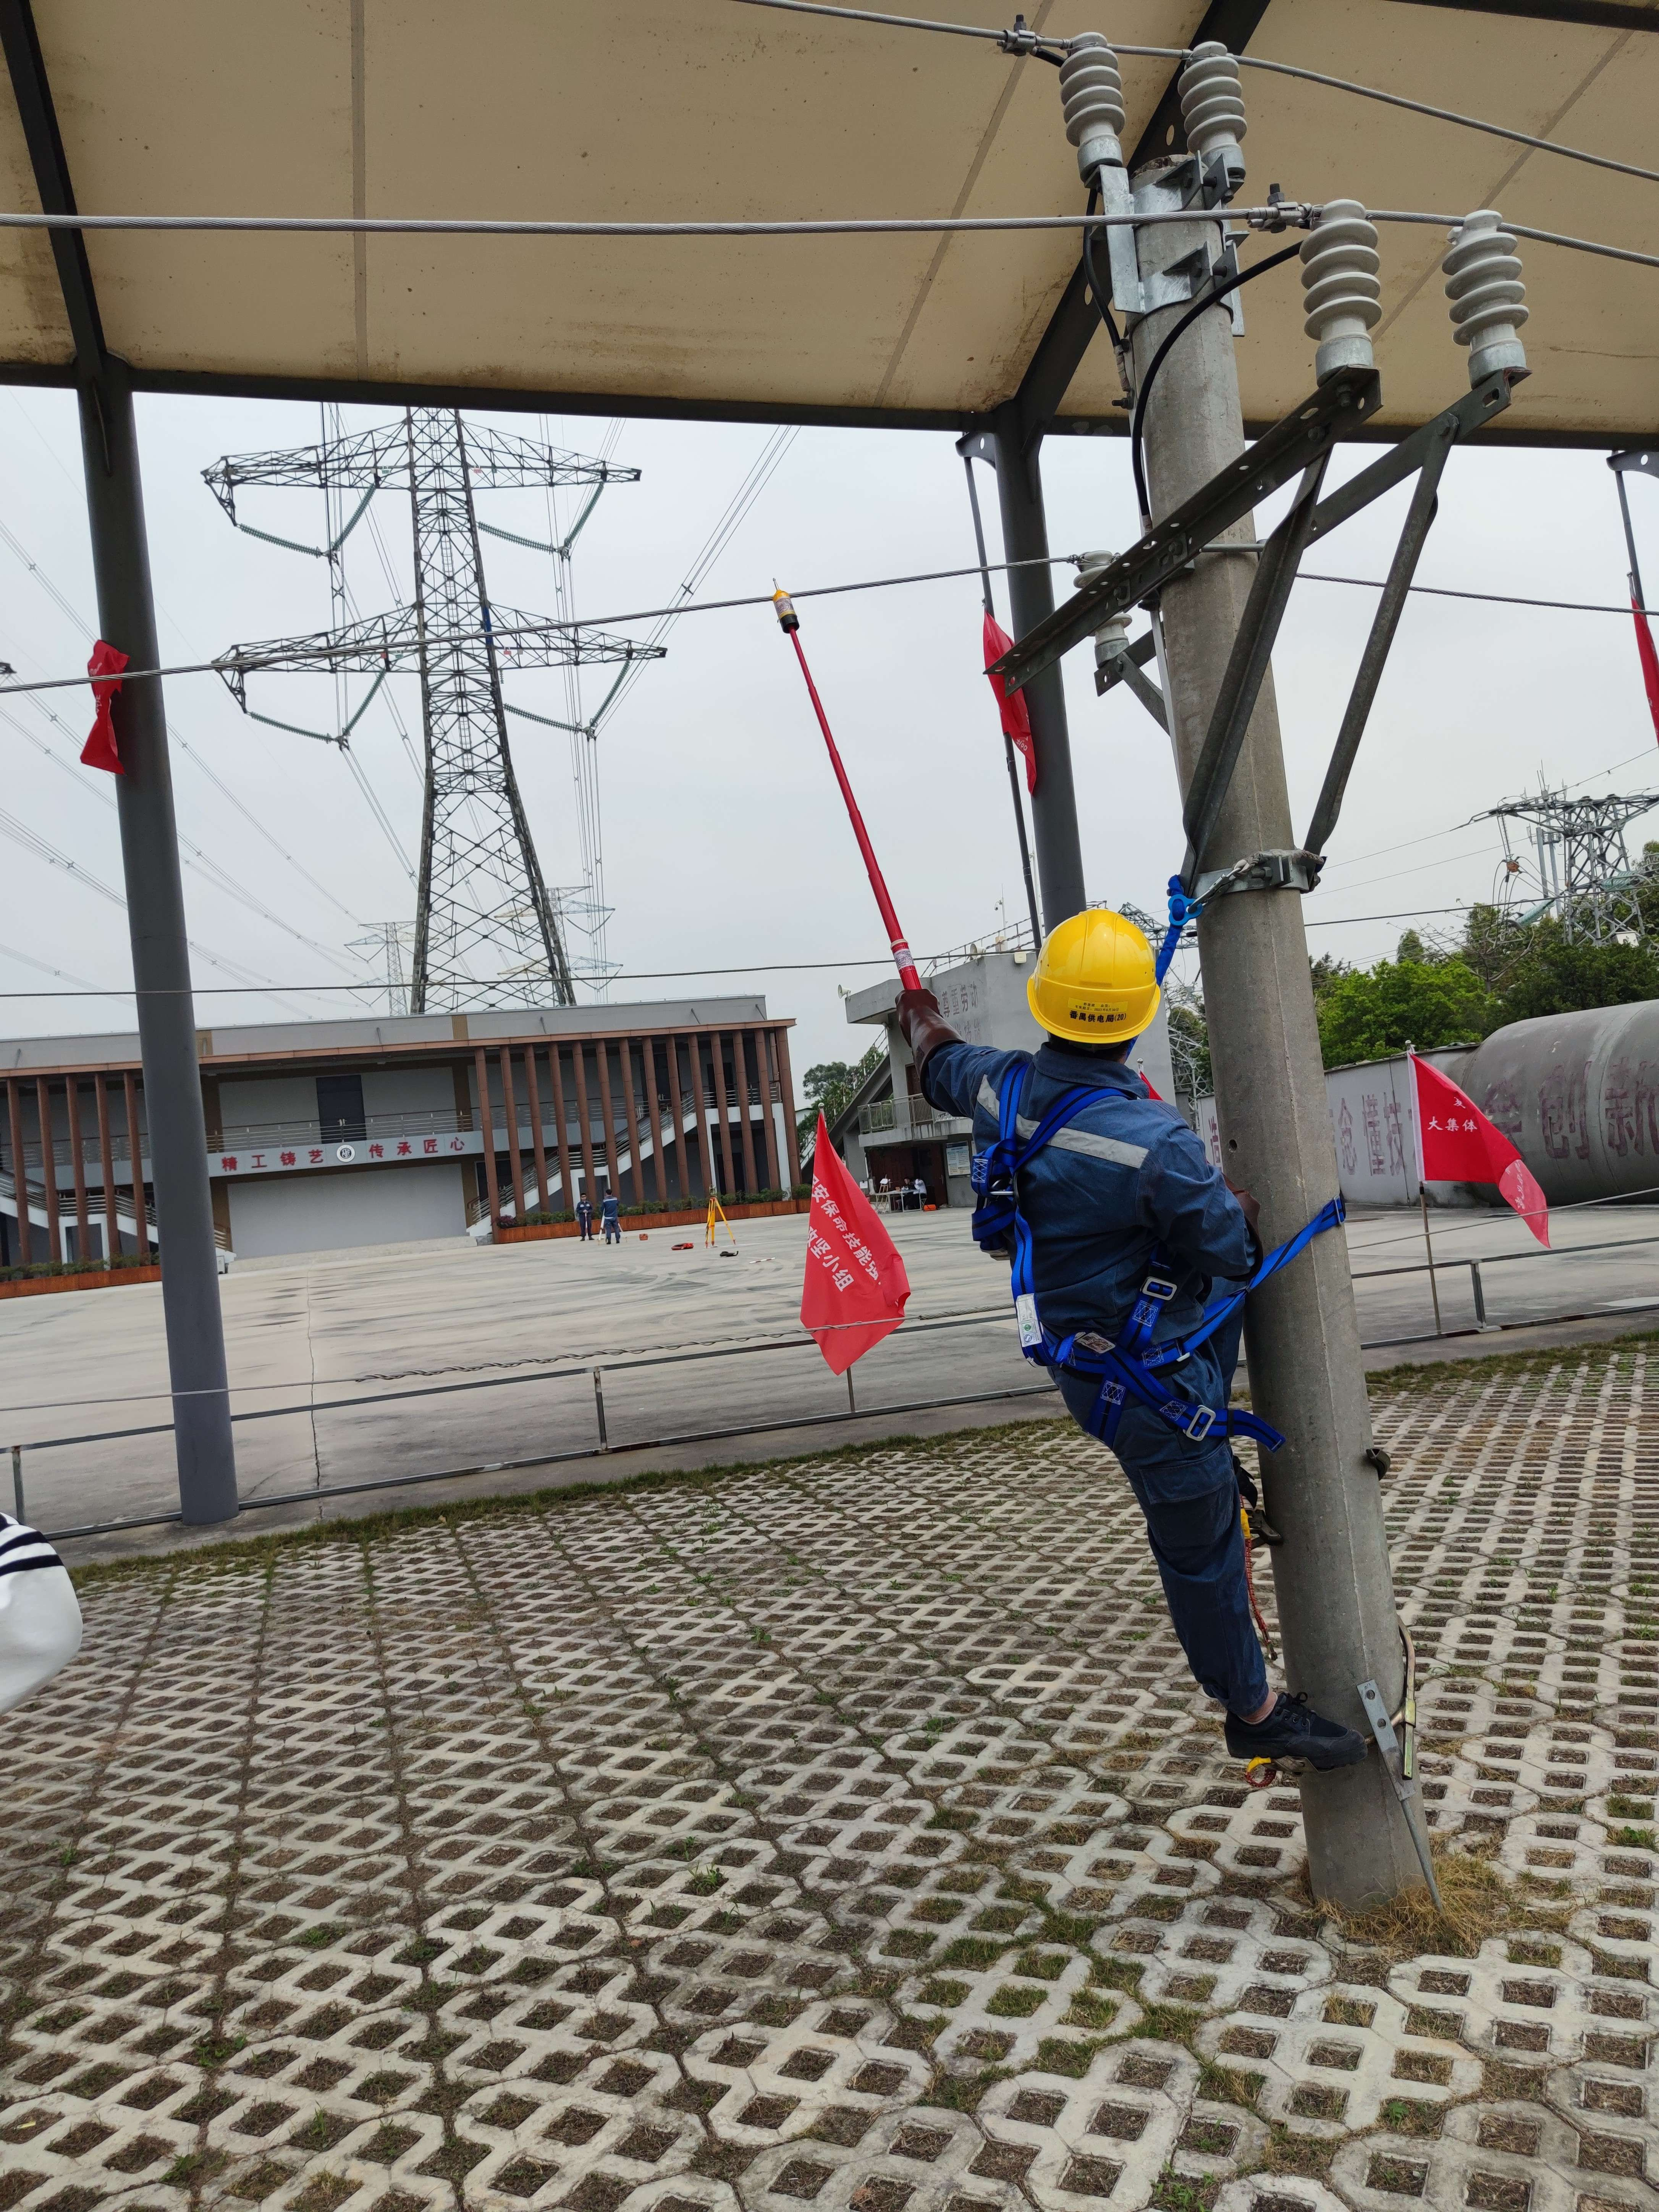downsuit: (1073, 1362, 1276, 1709)
upsuit: (911, 996, 1260, 1324)
